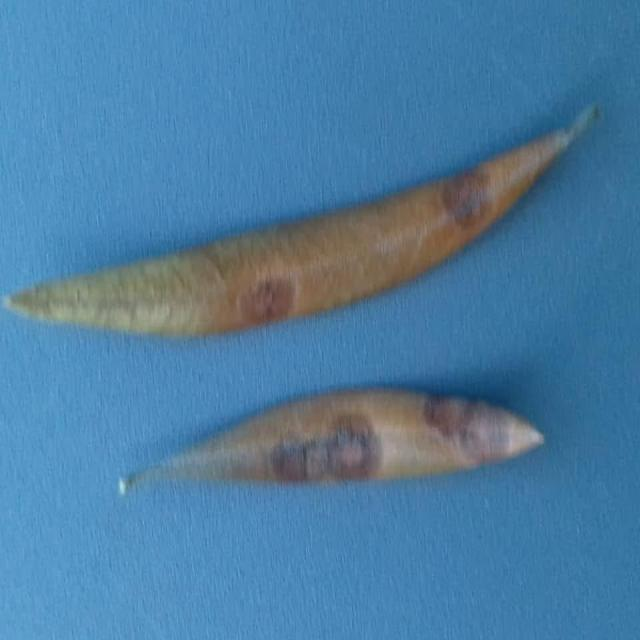Peacock Eye: (3, 108, 598, 338), (119, 389, 543, 495)
